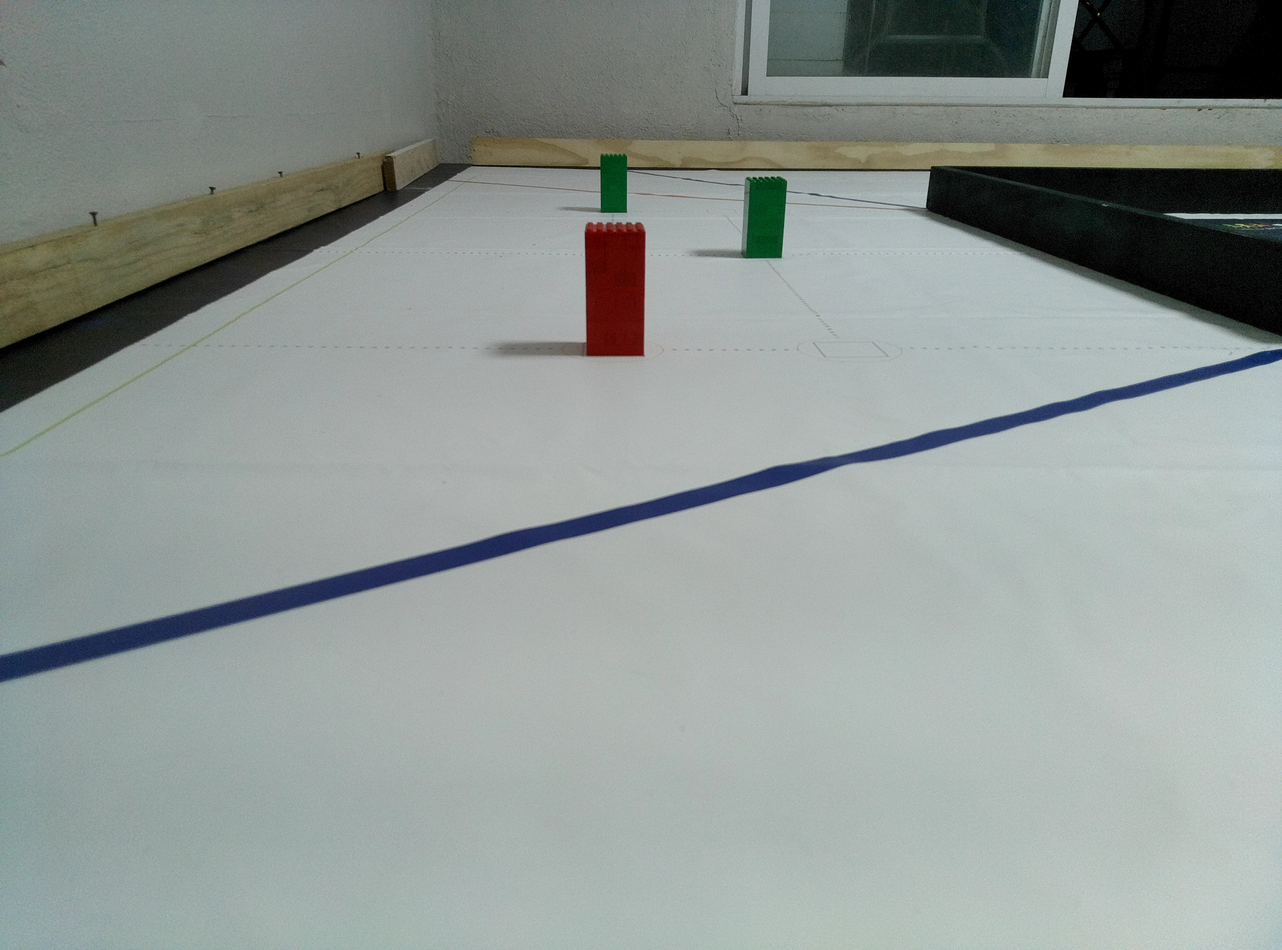greenbox: (740, 175, 787, 258), (600, 153, 627, 213)
redbox: (583, 222, 647, 356)
